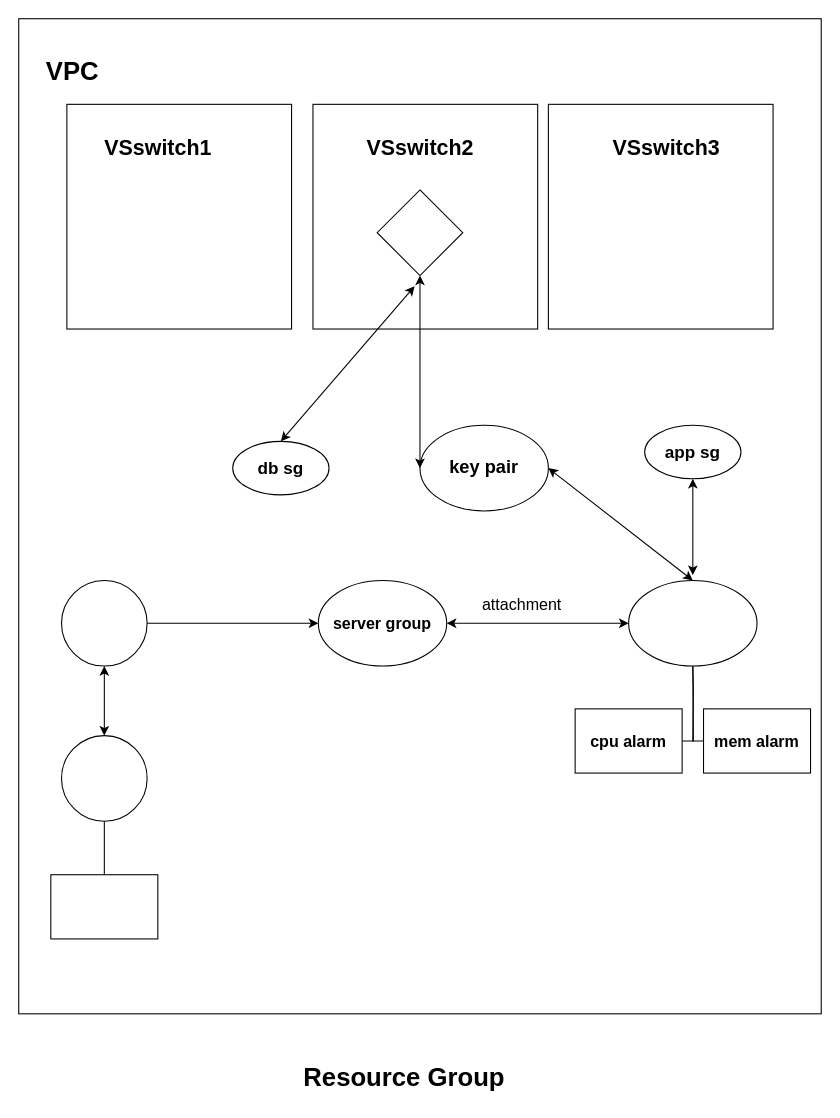
This 840x1118 diagram has some shape labels left out. The centre of each missing label's shape, as x and y in pixels:
ALB: the point at 103,622
ASG: the point at 692,622
db ecs: the point at 419,232
listerner 443: the point at 103,778
ssl cert: the point at 104,906
